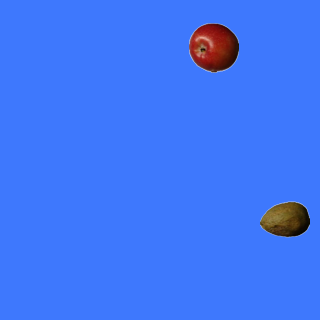Apple Braeburn: (188, 22, 238, 72)
Papaya: (259, 194, 309, 244)
